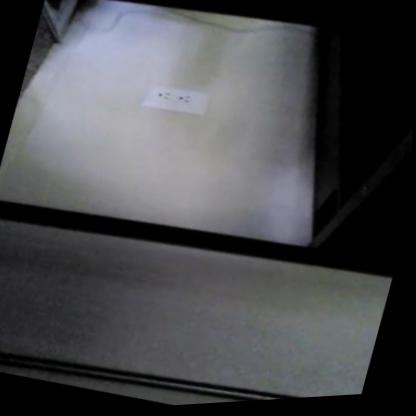OUTLET: (143, 77, 213, 120)
